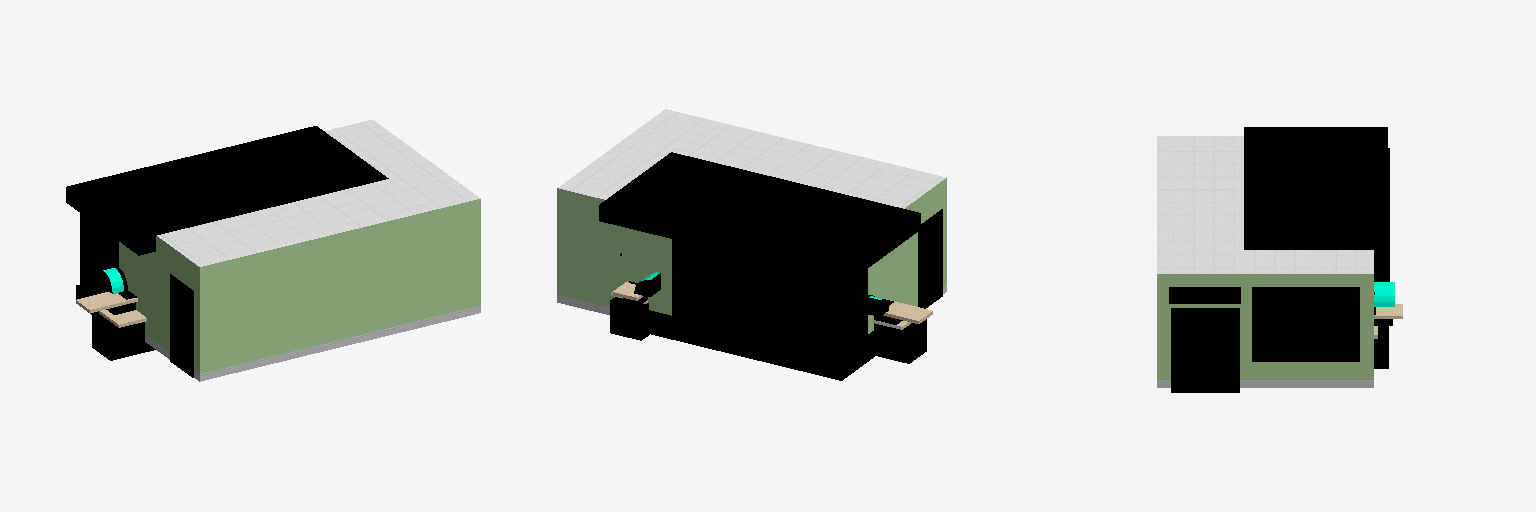
The picture shows the model from 3 angles: view 1: azimuth 30°, elevation 25°; view 2: azimuth 150°, elevation 25°; view 3: azimuth 270°, elevation 25°; orthographic projection.
Parts seen in each view (by area): view 1: pCube1 LOD_0, pCube19, pCube5, pCube31, pCube6, pCube35, pCube13; view 2: pCube1 LOD_0, pCube19, pCube35, pCube47, pCube5, pCube31, pCube6, pCube2, pCube13; view 3: pCube1 LOD_0, pCube19, pCube38, pCube44, pCube43, pCube40, pCube2.
Boxes of the visible parts, x1,y1,x2,y2 form: pCube1 LOD_0: [119, 119, 480, 381]; pCube19: [66, 126, 388, 255]; pCube5: [170, 274, 193, 377]; pCube31: [92, 314, 155, 360]; pCube6: [94, 223, 118, 293]; pCube35: [80, 213, 93, 291]; pCube13: [76, 292, 137, 312]; pCube1 LOD_0: [557, 109, 946, 333]; pCube19: [599, 152, 920, 281]; pCube35: [672, 237, 846, 374]; pCube47: [643, 310, 883, 380]; pCube5: [918, 209, 942, 308]; pCube31: [874, 319, 926, 363]; pCube6: [847, 269, 867, 351]; pCube2: [610, 297, 649, 340]; pCube13: [883, 299, 932, 323]; pCube1 LOD_0: [1157, 136, 1373, 387]; pCube19: [1244, 127, 1387, 264]; pCube38: [1252, 287, 1359, 361]; pCube44: [1205, 308, 1239, 392]; pCube43: [1171, 308, 1204, 392]; pCube40: [1169, 287, 1240, 303]; pCube2: [1374, 326, 1388, 368].
Bounding box in the file's own units: 10.61 × 3.84 × 6.79.
4 materials, 1 textured.